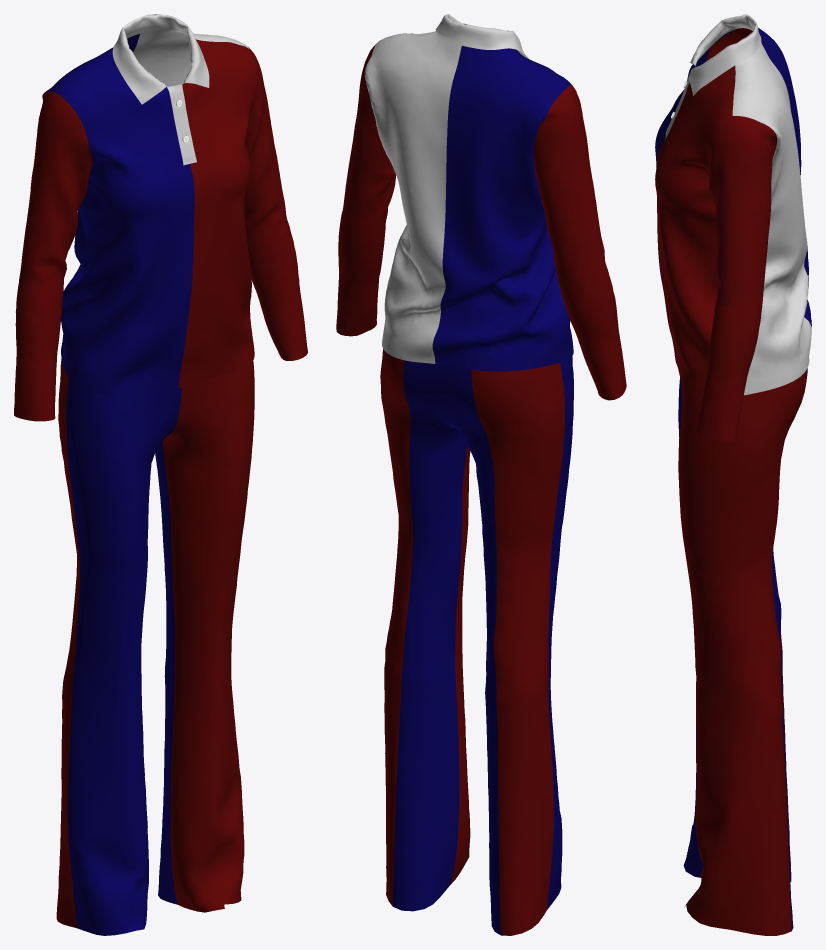
The model's file is trainingspak.obj.
3 renders of one model, left to right at view 1: azimuth 30°, elevation 25°; view 2: azimuth 150°, elevation 25°; view 3: azimuth 270°, elevation 25°, orthographic.
Visible parts, largest first — view 1: Pattern2D_746095, Pattern2D_5138, 31, Pattern2D_749386, Pattern2D_5135, Pattern2D_5139, Pattern2D_4553, 4, Pattern2D_4414546, ButtonHead_10284, Pattern2D_4866, Pattern2D_4680 (+3 smaller); view 2: Pattern2D_4414546, Pattern2D_4866, ButtonHead_10284, Pattern2D_4680, Pattern2D_5135, Pattern2D_4553, ButtonHead_10277, Pattern2D_4414547, Pattern2D_5138, 31, Pattern2D_746095, 30 (+1 smaller); view 3: ButtonHead_10277, 4, Pattern2D_4553, Pattern2D_749386, Pattern2D_4680, 12, Pattern2D_4866, 30, Pattern2D_5139, Pattern2D_4414547, Pattern2D_746095, Pattern2D_5135 (+1 smaller).
Part boxes in pixels (<box>): Pattern2D_746095: <box>60,58,194,394</box>; Pattern2D_5138: <box>66,378,134,935</box>; 31: <box>162,374,236,912</box>; Pattern2D_749386: <box>178,39,254,387</box>; Pattern2D_5135: <box>14,91,93,421</box>; Pattern2D_5139: <box>121,387,181,933</box>; Pattern2D_4553: <box>244,47,307,360</box>; 4: <box>217,360,254,904</box>; Pattern2D_4414546: <box>56,358,79,928</box>; ButtonHead_10284: <box>155,442,177,904</box>; Pattern2D_4866: <box>44,34,139,371</box>; Pattern2D_4680: <box>133,31,249,86</box>; Pattern2D_4414546: <box>471,363,564,935</box>; Pattern2D_4866: <box>432,45,569,371</box>; ButtonHead_10284: <box>393,360,467,911</box>; Pattern2D_4680: <box>364,31,461,363</box>; Pattern2D_5135: <box>533,84,626,400</box>; Pattern2D_4553: <box>336,44,395,336</box>; ButtonHead_10277: <box>380,349,413,906</box>; Pattern2D_4414547: <box>439,364,500,935</box>; Pattern2D_5138: <box>547,356,573,909</box>; 31: <box>450,445,470,884</box>; Pattern2D_746095: <box>512,49,573,363</box>; 30: <box>462,24,528,58</box>; ButtonHead_10277: <box>728,369,806,935</box>; 4: <box>678,388,737,929</box>; Pattern2D_4553: <box>696,116,777,441</box>; Pattern2D_749386: <box>655,65,735,396</box>; Pattern2D_4680: <box>732,44,811,395</box>; 12: <box>688,24,761,95</box>; Pattern2D_4866: <box>736,27,811,326</box>; 30: <box>690,14,761,66</box>; Pattern2D_5139: <box>678,379,702,877</box>; Pattern2D_4414547: <box>772,549,791,881</box>; Pattern2D_746095: <box>655,29,735,285</box>; Pattern2D_5135: <box>706,28,752,61</box>.
Size of the model in its own units: 54.61 by 163 by 26.16.
